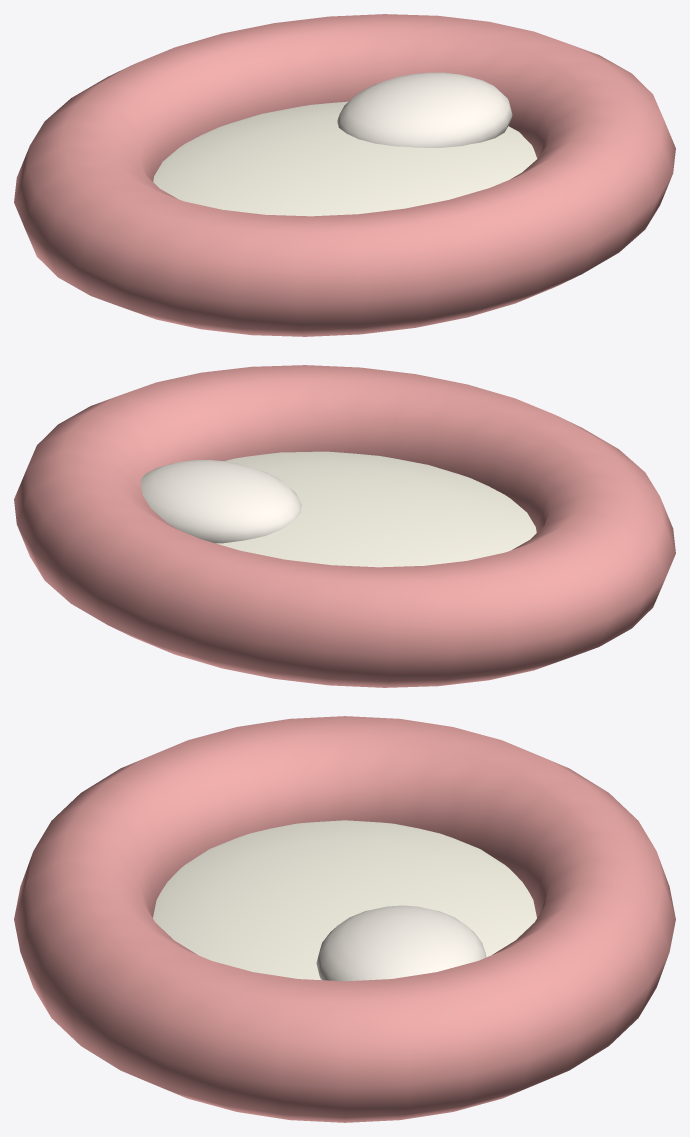
File: bed-pink.glb
The picture shows the model from 3 angles, top to bottom: view 1: azimuth 30°, elevation 25°; view 2: azimuth 150°, elevation 25°; view 3: azimuth 270°, elevation 25°; orthographic projection. The views are drawn at different scales.
Visible parts, largest first — view 1: Soft bed rim, Pet bed cushion, Little pillow; view 2: Soft bed rim, Pet bed cushion, Little pillow; view 3: Soft bed rim, Pet bed cushion, Little pillow.
Part boxes in pixels (x1,y1,x2,y2): Soft bed rim: (14, 14, 675, 336); Pet bed cushion: (153, 101, 537, 216); Little pillow: (337, 72, 512, 147); Soft bed rim: (14, 365, 675, 687); Pet bed cushion: (216, 451, 536, 567); Little pillow: (141, 460, 301, 543); Soft bed rim: (14, 716, 675, 1122); Pet bed cushion: (153, 820, 536, 980); Little pillow: (316, 905, 486, 981).
Bounding box in the file's own units: 1.94 × 0.4417 × 1.62.
